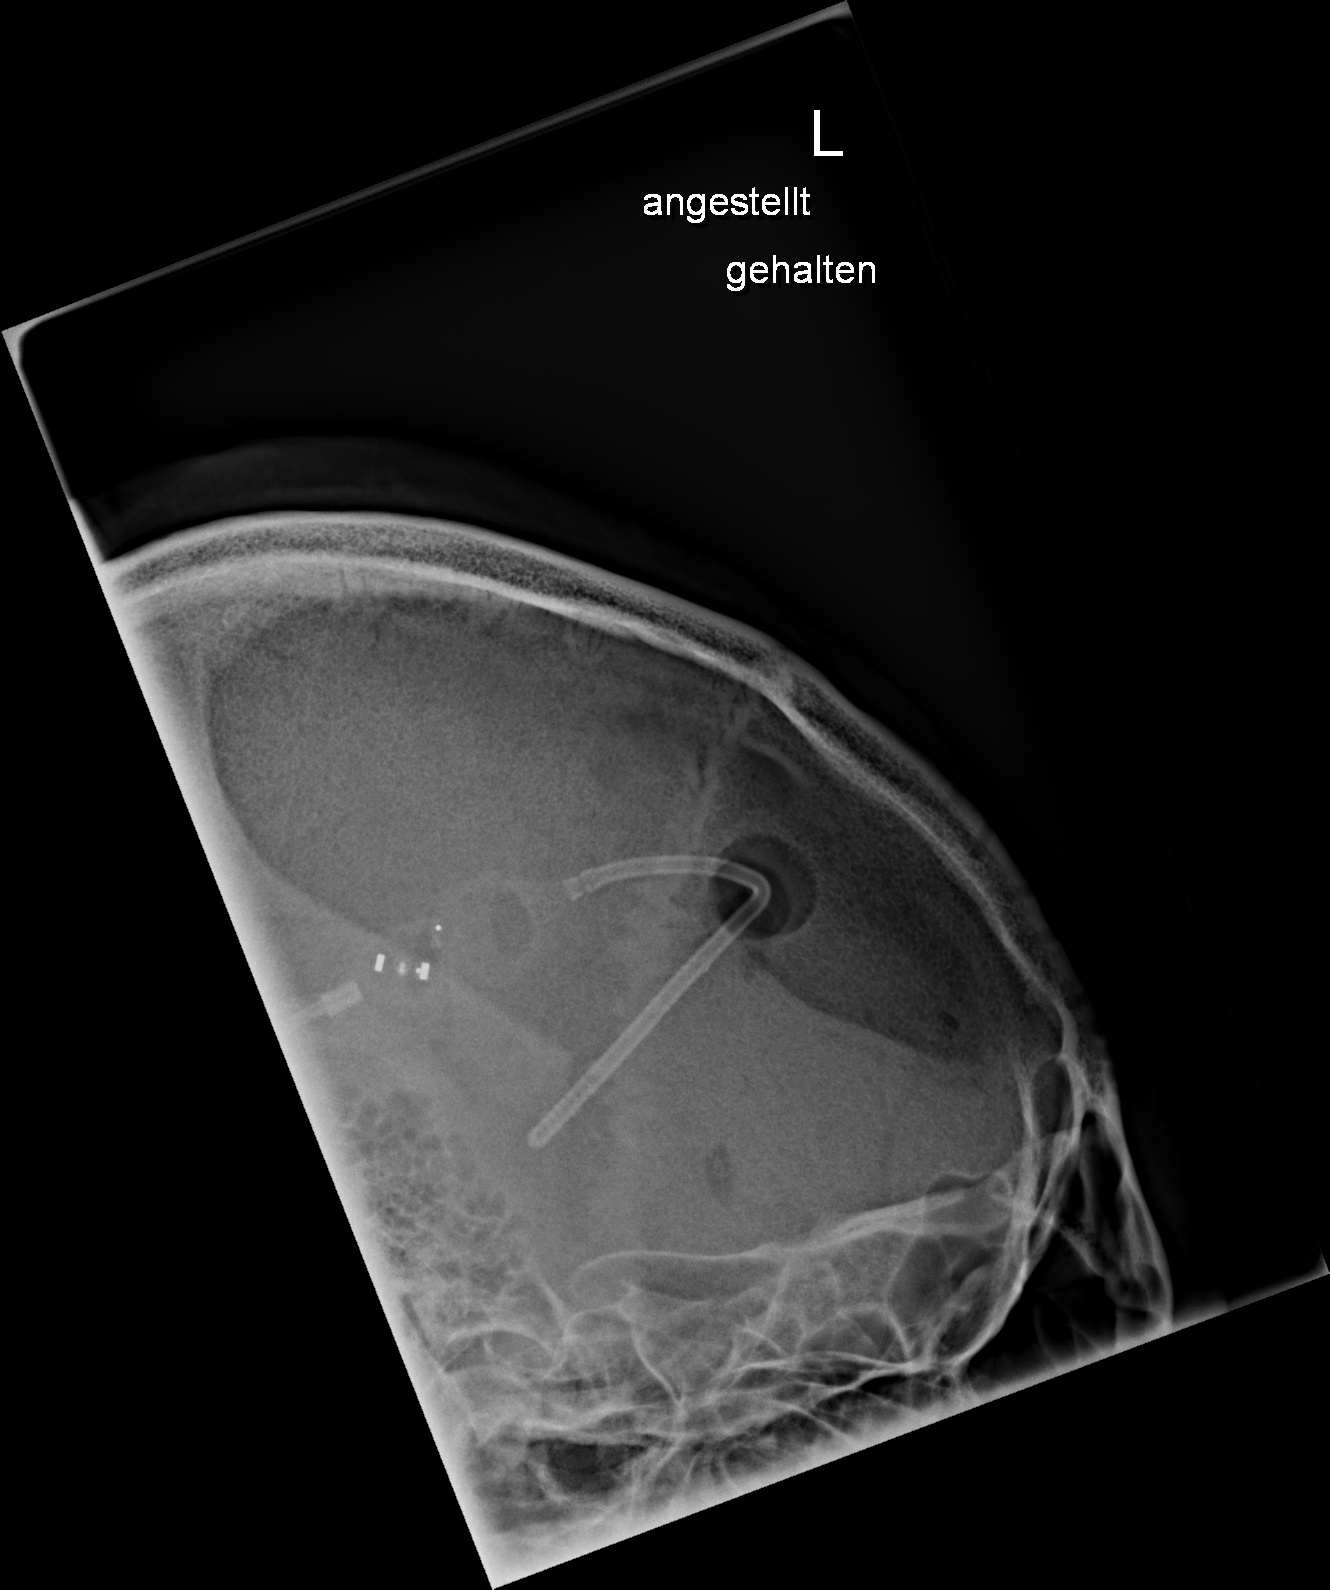Codman Certas: (345, 906, 468, 1035)
